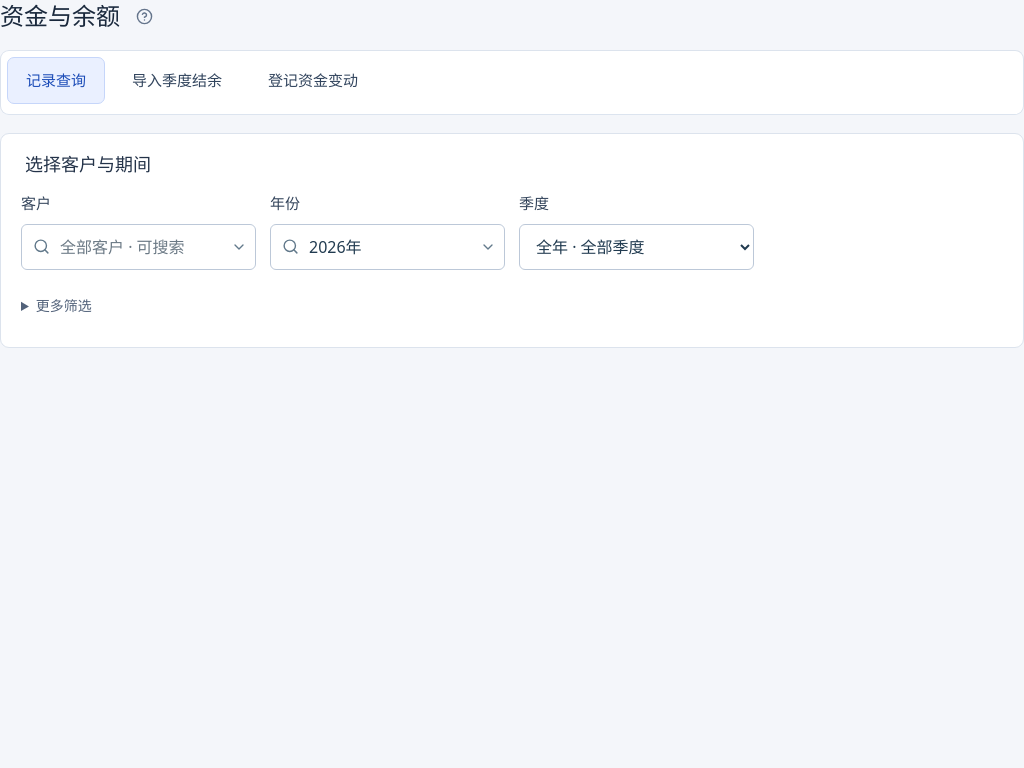
Test: 尚未加载完就关闭预览会取消请求，延迟响应不生成遗留预览
The width and height of the screenshot is (1024, 768).
Focus the dropdown named "资金与余额客户": (138, 247) top-left (21, 224), bottom-right (256, 270)
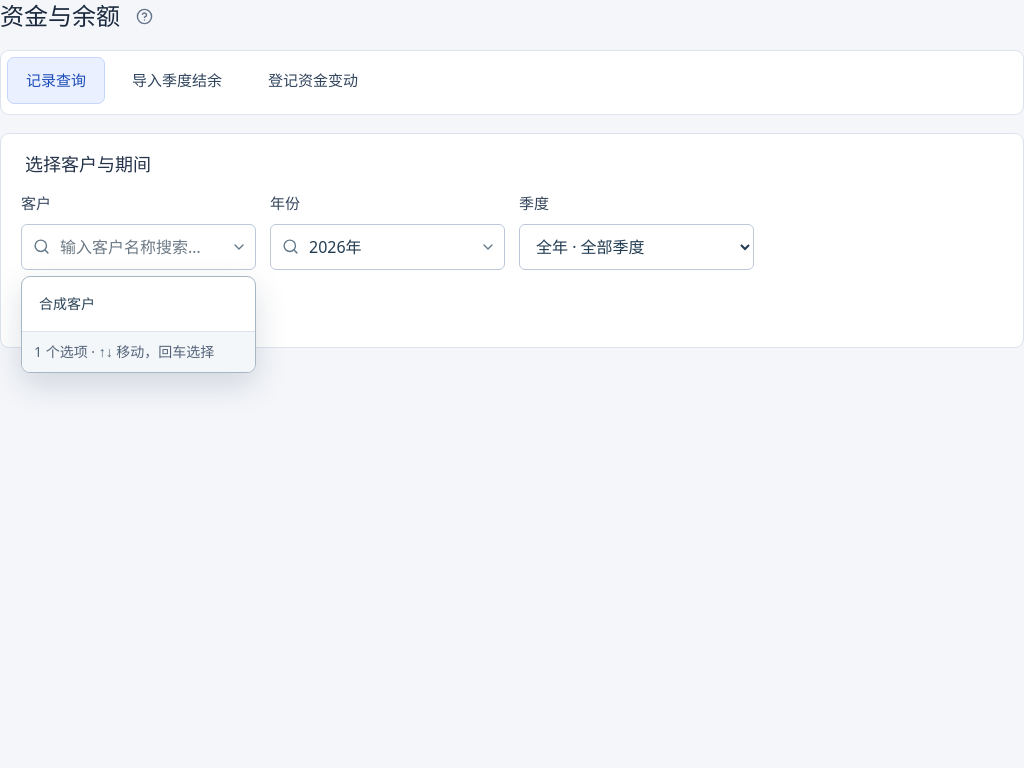
Click the option "合成客户": (67, 304) top-left (39, 294), bottom-right (95, 313)
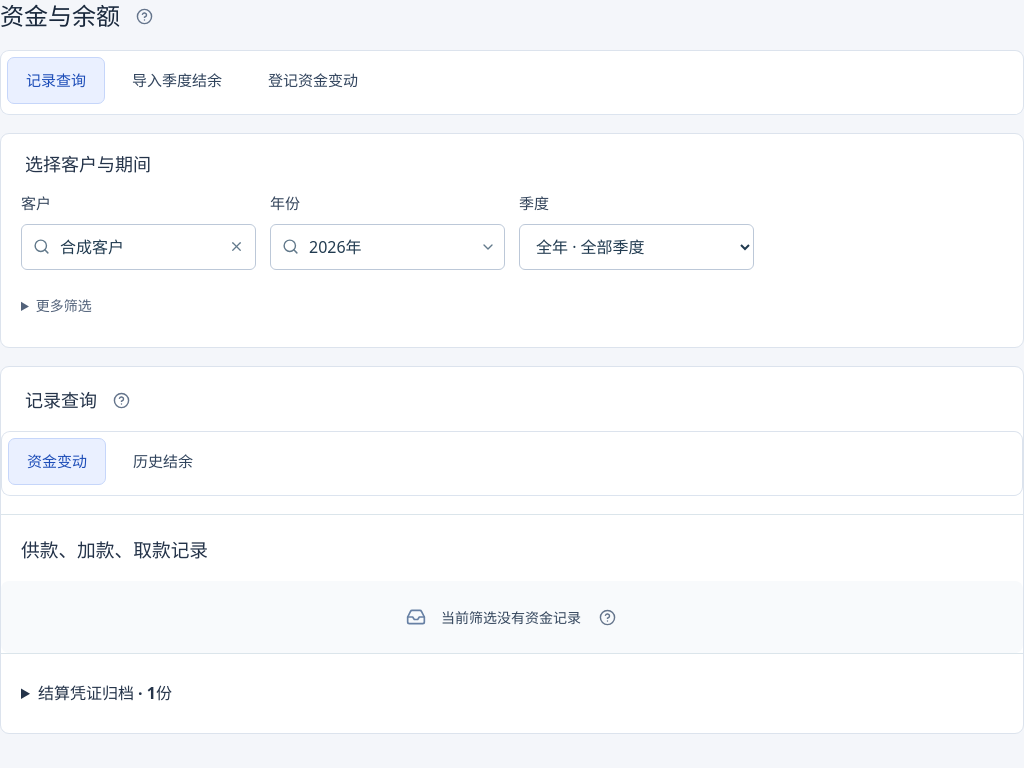
Click the heading "结算凭证归档 · 1份": (105, 693) top-left (38, 682), bottom-right (172, 704)
(page scrolled)
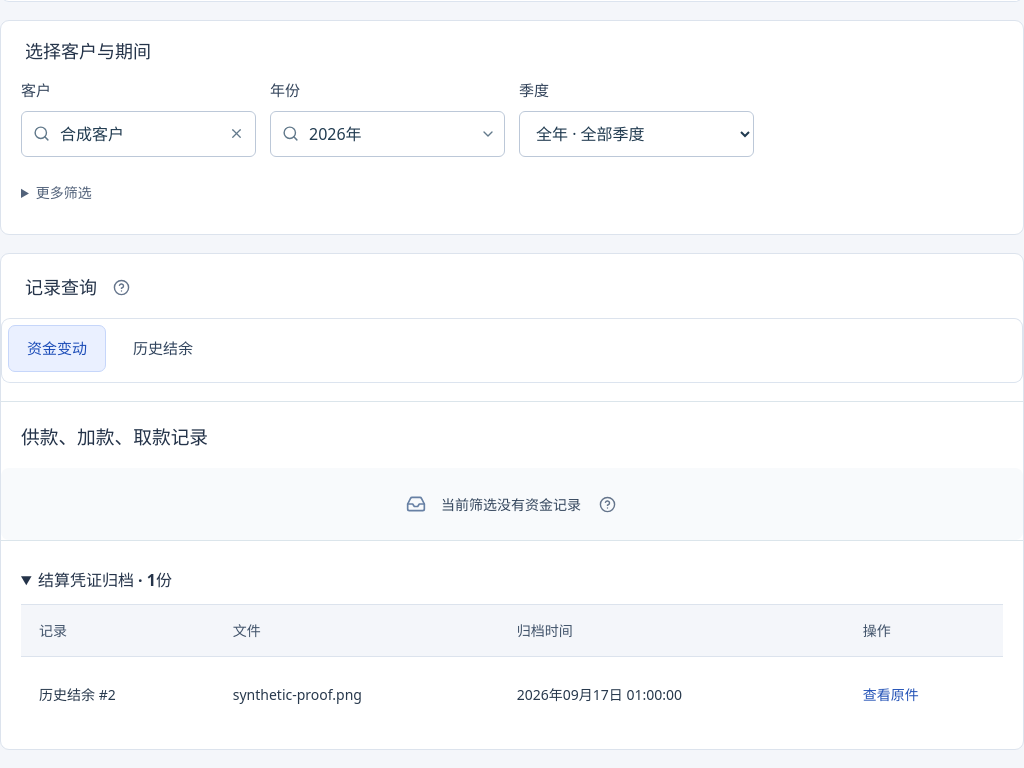
Click the button "查看原件": (891, 695) top-left (863, 673), bottom-right (919, 717)
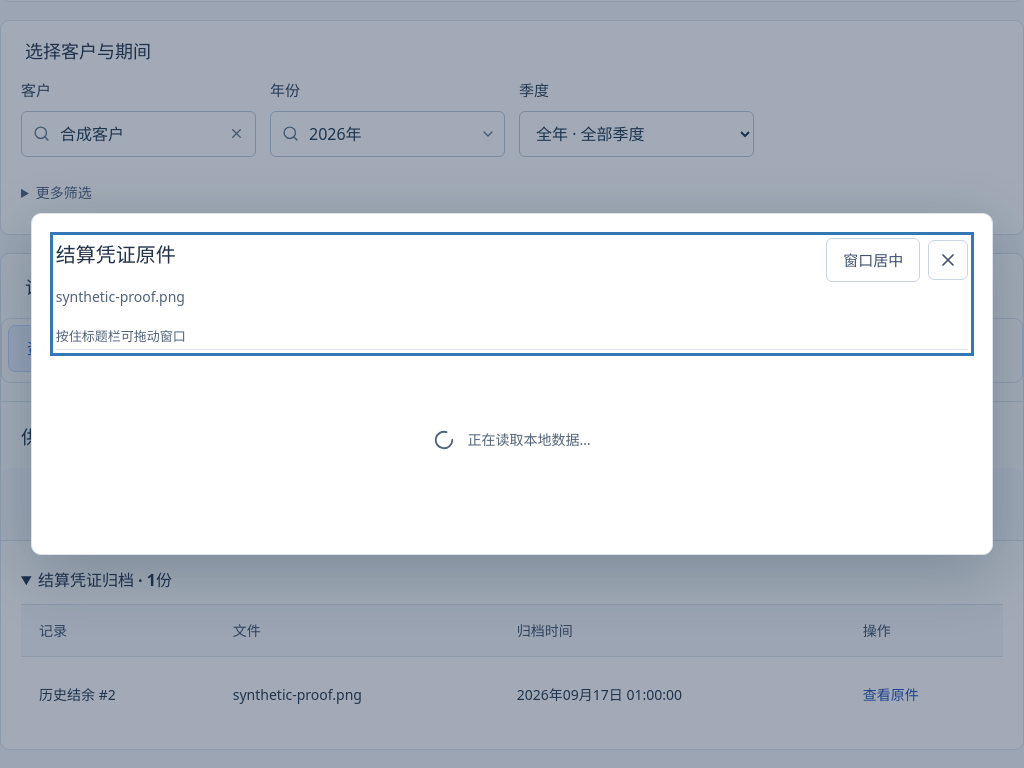
Click the button named "关闭预览": (948, 260) top-left (928, 240), bottom-right (968, 280)
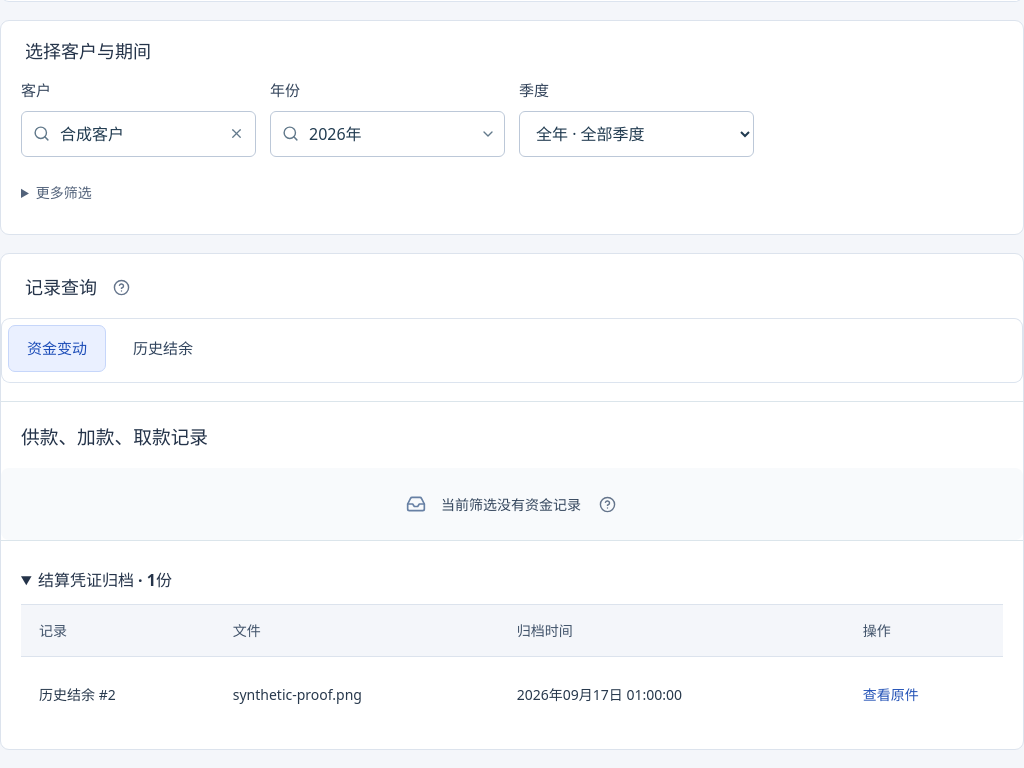
Expected: the dialog is gone
